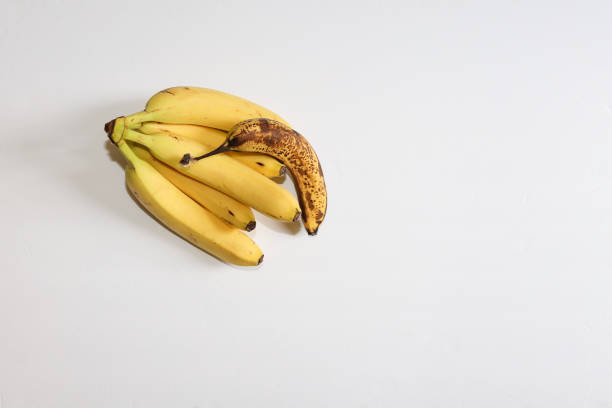banana: (95, 79, 330, 271), (209, 114, 325, 238)
